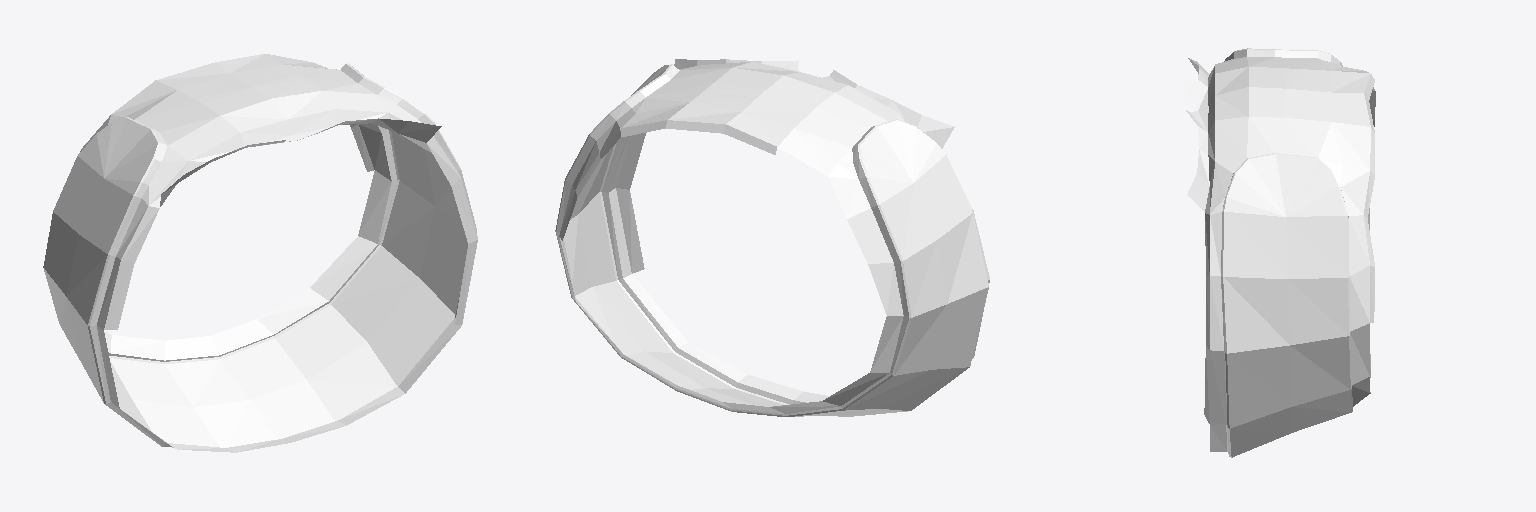
File: mdl2.obj
The picture shows the model from 3 angles: view 1: azimuth 30°, elevation 25°; view 2: azimuth 150°, elevation 25°; view 3: azimuth 270°, elevation 25°; orthographic projection.
Parts seen in each view (by area): view 1: upperbody:1; view 2: upperbody:1; view 3: upperbody:1.
Part boxes in pixels (bbox=[...]): upperbody:1: bbox=[43, 54, 477, 452]; upperbody:1: bbox=[555, 59, 989, 416]; upperbody:1: bbox=[1184, 48, 1375, 457].
Size of the model in its own units: 27.99 by 23.21 by 11.94.